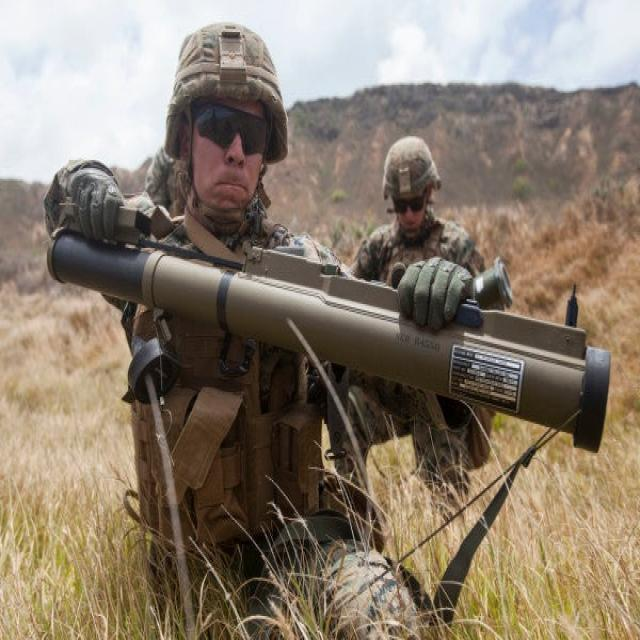bazooka: (38, 160, 630, 489)
